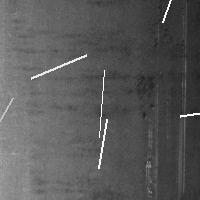scratches: (26, 50, 91, 83), (174, 65, 188, 196), (143, 123, 160, 196), (0, 93, 17, 166), (94, 65, 109, 142), (94, 114, 112, 173), (158, 0, 192, 27), (175, 97, 200, 121)
